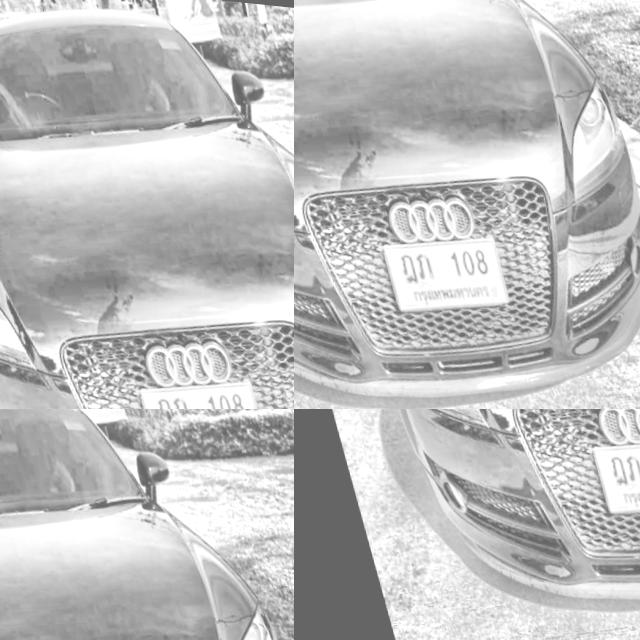license-plate: (226, 94, 294, 218), (580, 420, 640, 517)
